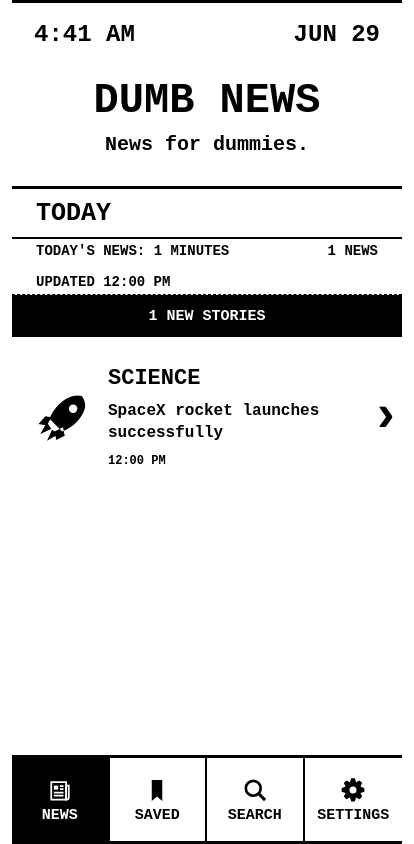
Scenario: DumbNewsApp › stages refreshed stories behind a new stories prompt
Expected: the text "Senate passes a temporary spending bill" is not shown
Click the button "1 NEW STORIES".
click(207, 316)  # box [12,295,402,337]
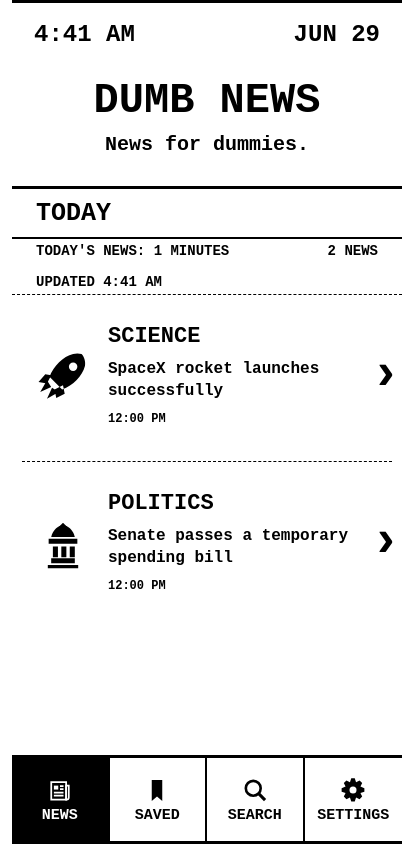
Expected: the text "Senate passes a temporary spending bill" is shown, [108,525,356,570]
